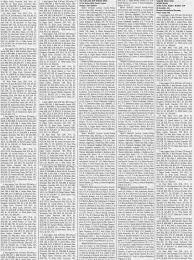Printing industry: (0, 2, 194, 260)
